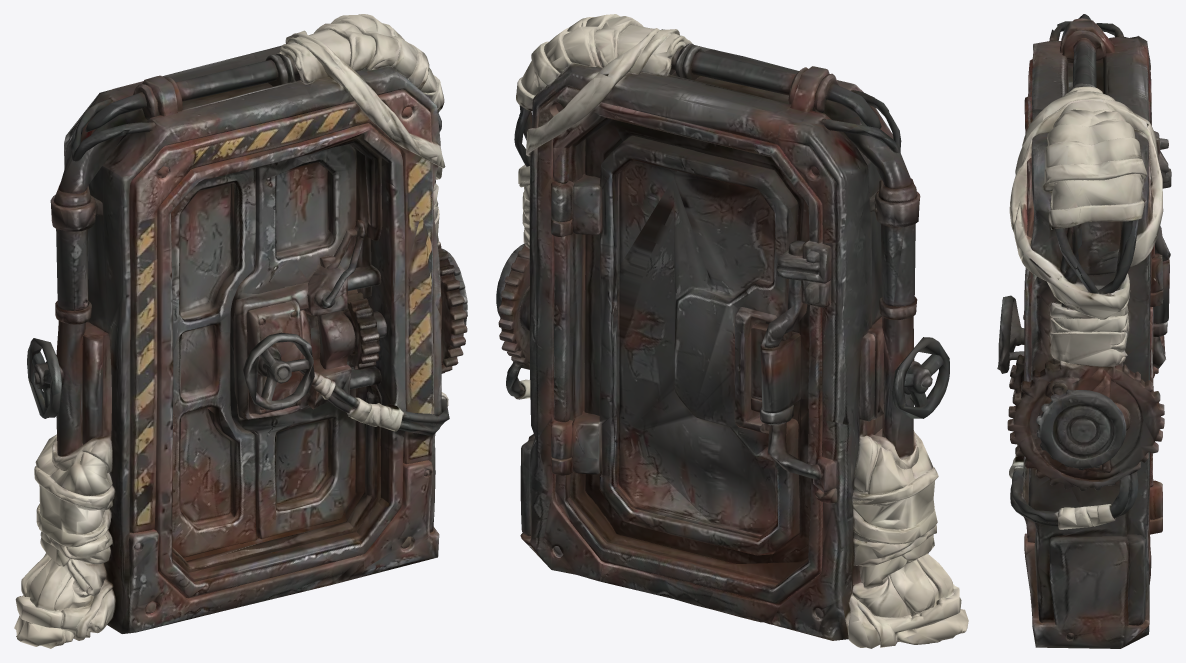
The model's file is prop_door_hatch.glb.
3 renders of one model, left to right at view 1: azimuth 30°, elevation 25°; view 2: azimuth 150°, elevation 25°; view 3: azimuth 270°, elevation 25°, orthographic. The views are drawn at different scales.
Visible parts, largest first — view 1: model; view 2: model; view 3: model.
Part boxes in pixels (<box>): model: <box>14,14,467,648</box>; model: <box>496,14,968,648</box>; model: <box>997,14,1171,648</box>.
Size of the model in its own units: 1.65 by 1.89 by 0.5851.
1 material, 1 textured.
